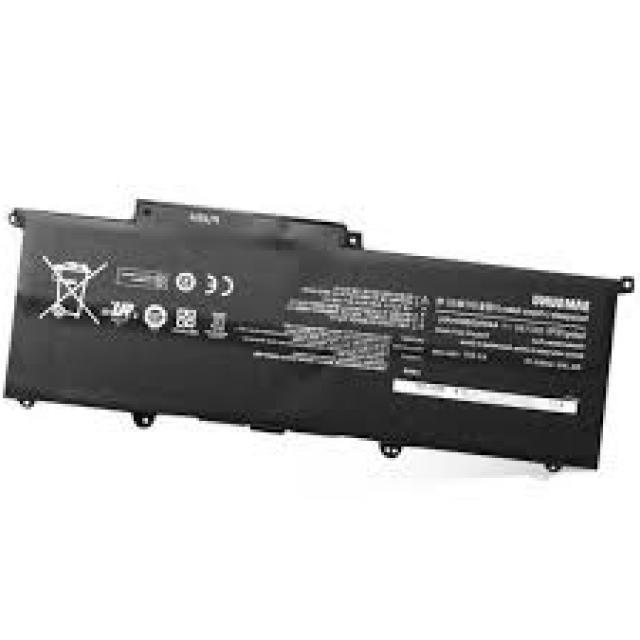battery: (5, 197, 633, 476)
